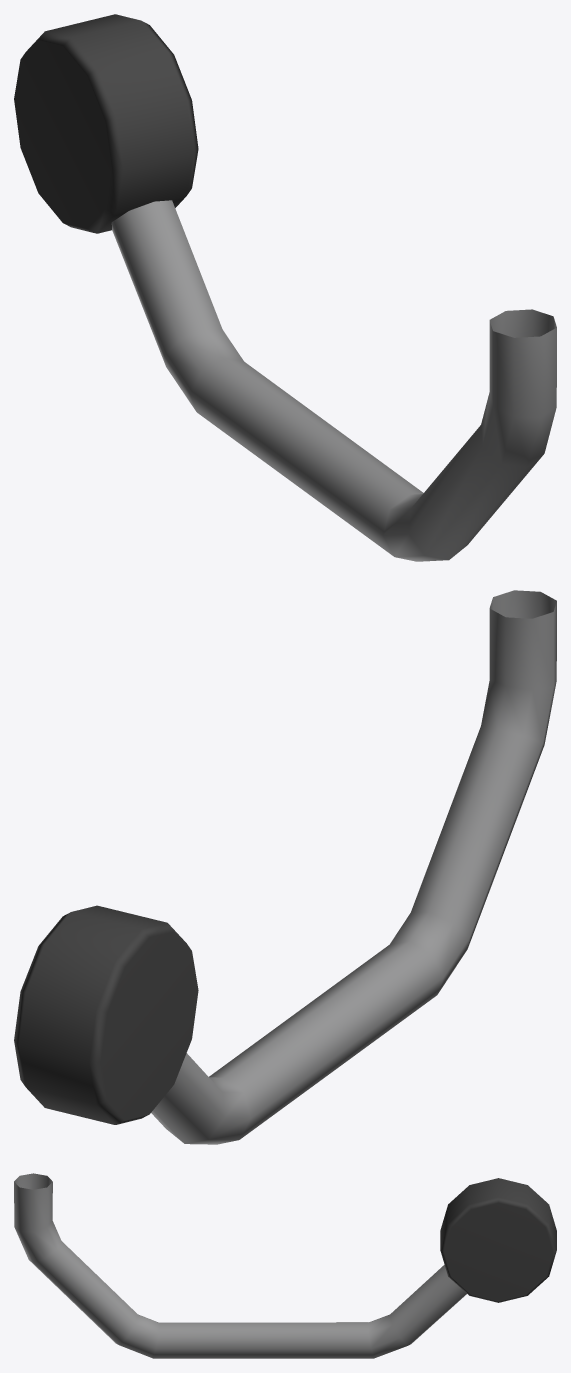
Rendered from Armchair_013_Armrest_01.fbx.
The picture shows the model from 3 angles, top to bottom: view 1: azimuth 30°, elevation 25°; view 2: azimuth 150°, elevation 25°; view 3: azimuth 270°, elevation 25°; orthographic projection. The views are drawn at different scales.
Parts seen in each view (by area): view 1: Armchair_013_Armrest_01; view 2: Armchair_013_Armrest_01; view 3: Armchair_013_Armrest_01.
Boxes of the visible parts, x1=… form: Armchair_013_Armrest_01: x1=14, y1=14, x2=556, y2=561; Armchair_013_Armrest_01: x1=14, y1=590, x2=556, y2=1144; Armchair_013_Armrest_01: x1=14, y1=1173, x2=556, y2=1358.
Size of the model in its own units: 5.76 by 55.78 by 19.98.
